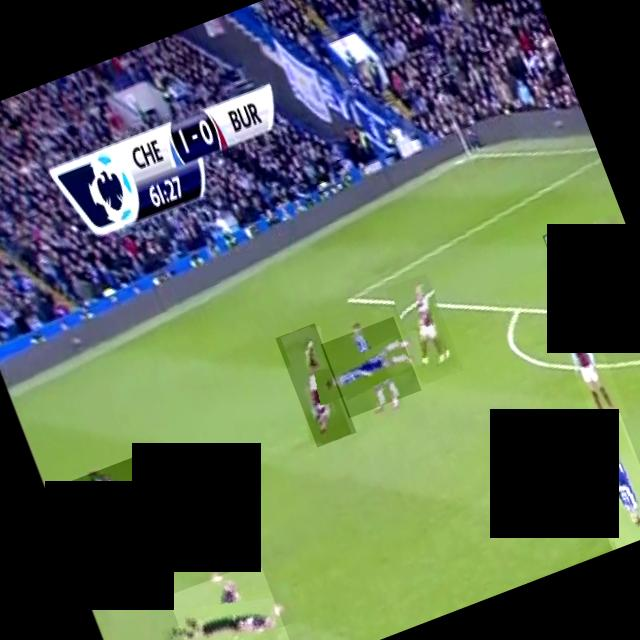soccer-player: (49, 456, 165, 573), (566, 412, 640, 551), (274, 322, 356, 447), (320, 316, 420, 418), (166, 560, 293, 640), (541, 223, 616, 350), (554, 306, 628, 428), (384, 272, 462, 385), (573, 229, 640, 328)
